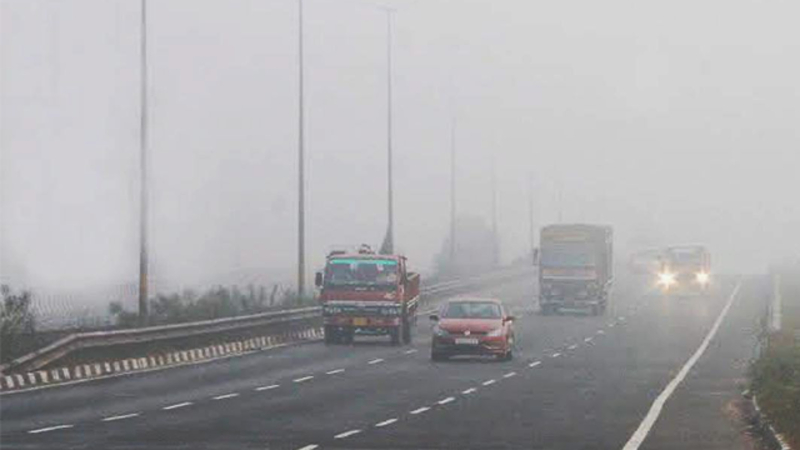car: (428, 295, 520, 363), (631, 245, 663, 274)
truck: (313, 248, 419, 347), (535, 220, 612, 317), (661, 245, 713, 297)
